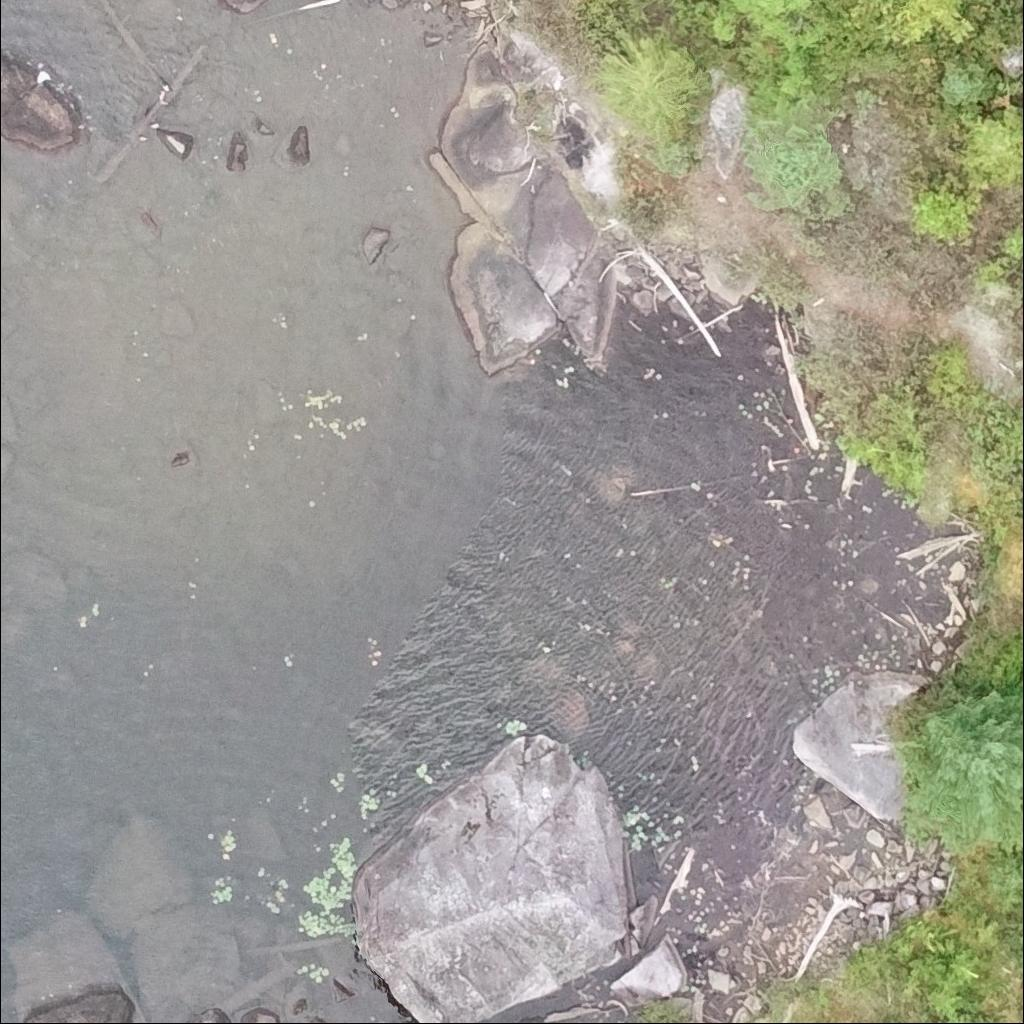crown: (907, 691, 1023, 858), (589, 31, 711, 139), (854, 0, 979, 46), (959, 111, 1023, 192), (764, 123, 840, 191)
